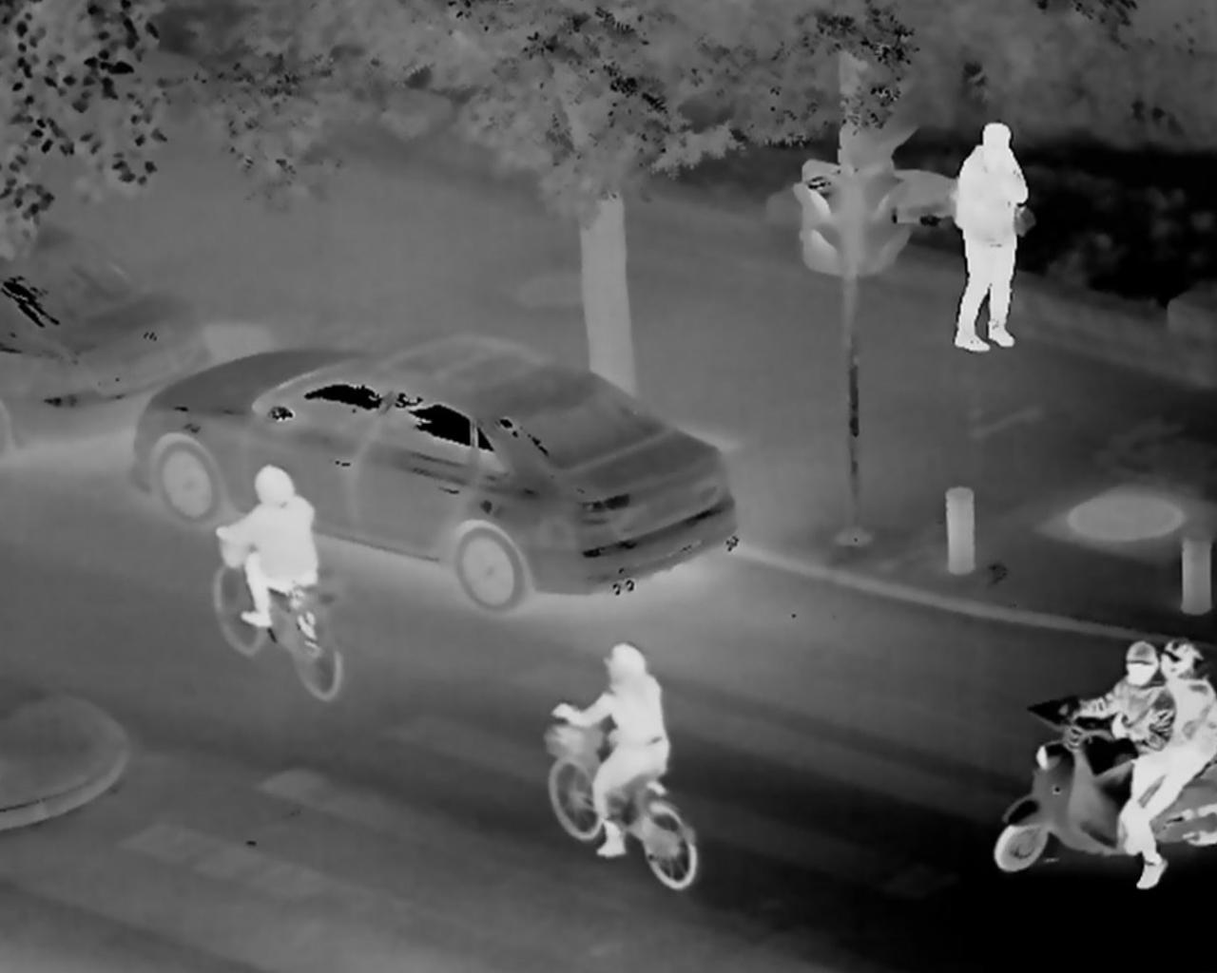person: (551, 640, 679, 871), (215, 458, 338, 656), (1081, 612, 1159, 907), (938, 116, 1029, 362), (1145, 635, 1217, 897)
